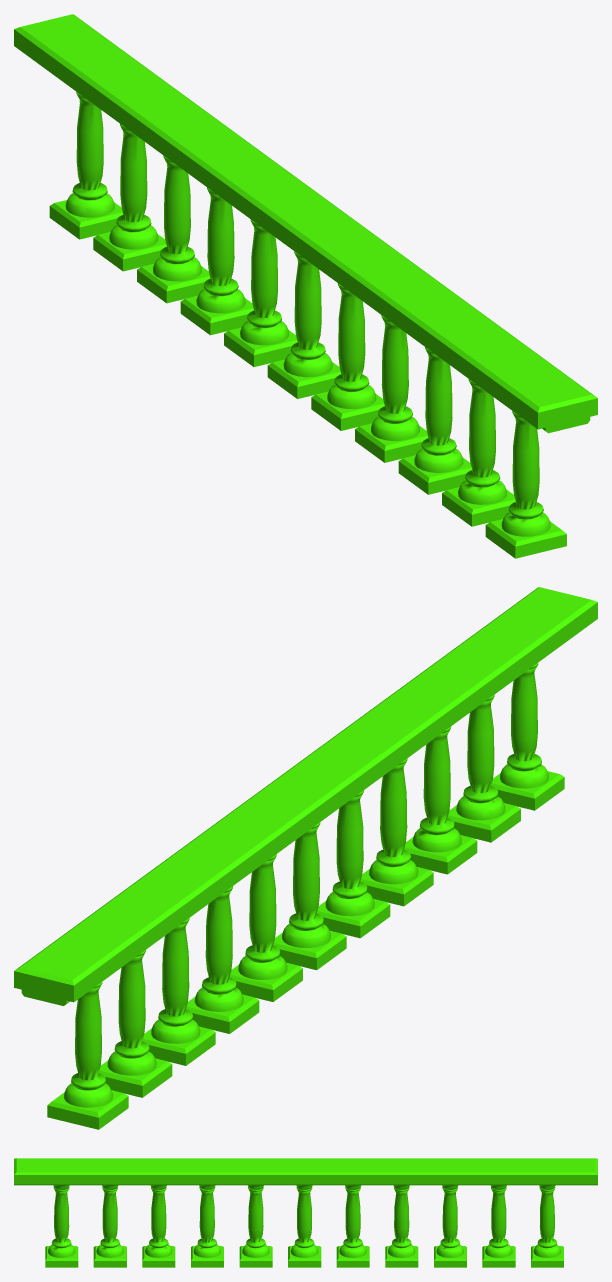
File: railing_edited.gltf
The picture shows the model from 3 angles, top to bottom: view 1: azimuth 30°, elevation 25°; view 2: azimuth 150°, elevation 25°; view 3: azimuth 270°, elevation 25°; orthographic projection. The views are drawn at different scales.
Visible parts, largest first — view 1: polySurface17_M_tesuri_0; view 2: polySurface17_M_tesuri_0; view 3: polySurface17_M_tesuri_0.
Part boxes in pixels (left/top/right/bottom): polySurface17_M_tesuri_0: left=14, top=14, right=597, bottom=558; polySurface17_M_tesuri_0: left=14, top=587, right=597, bottom=1129; polySurface17_M_tesuri_0: left=14, top=1158, right=597, bottom=1267.
Bounding box in the file's own units: 35.74 × 97.21 × 541.
Materials: 1 (1 with a texture image).
